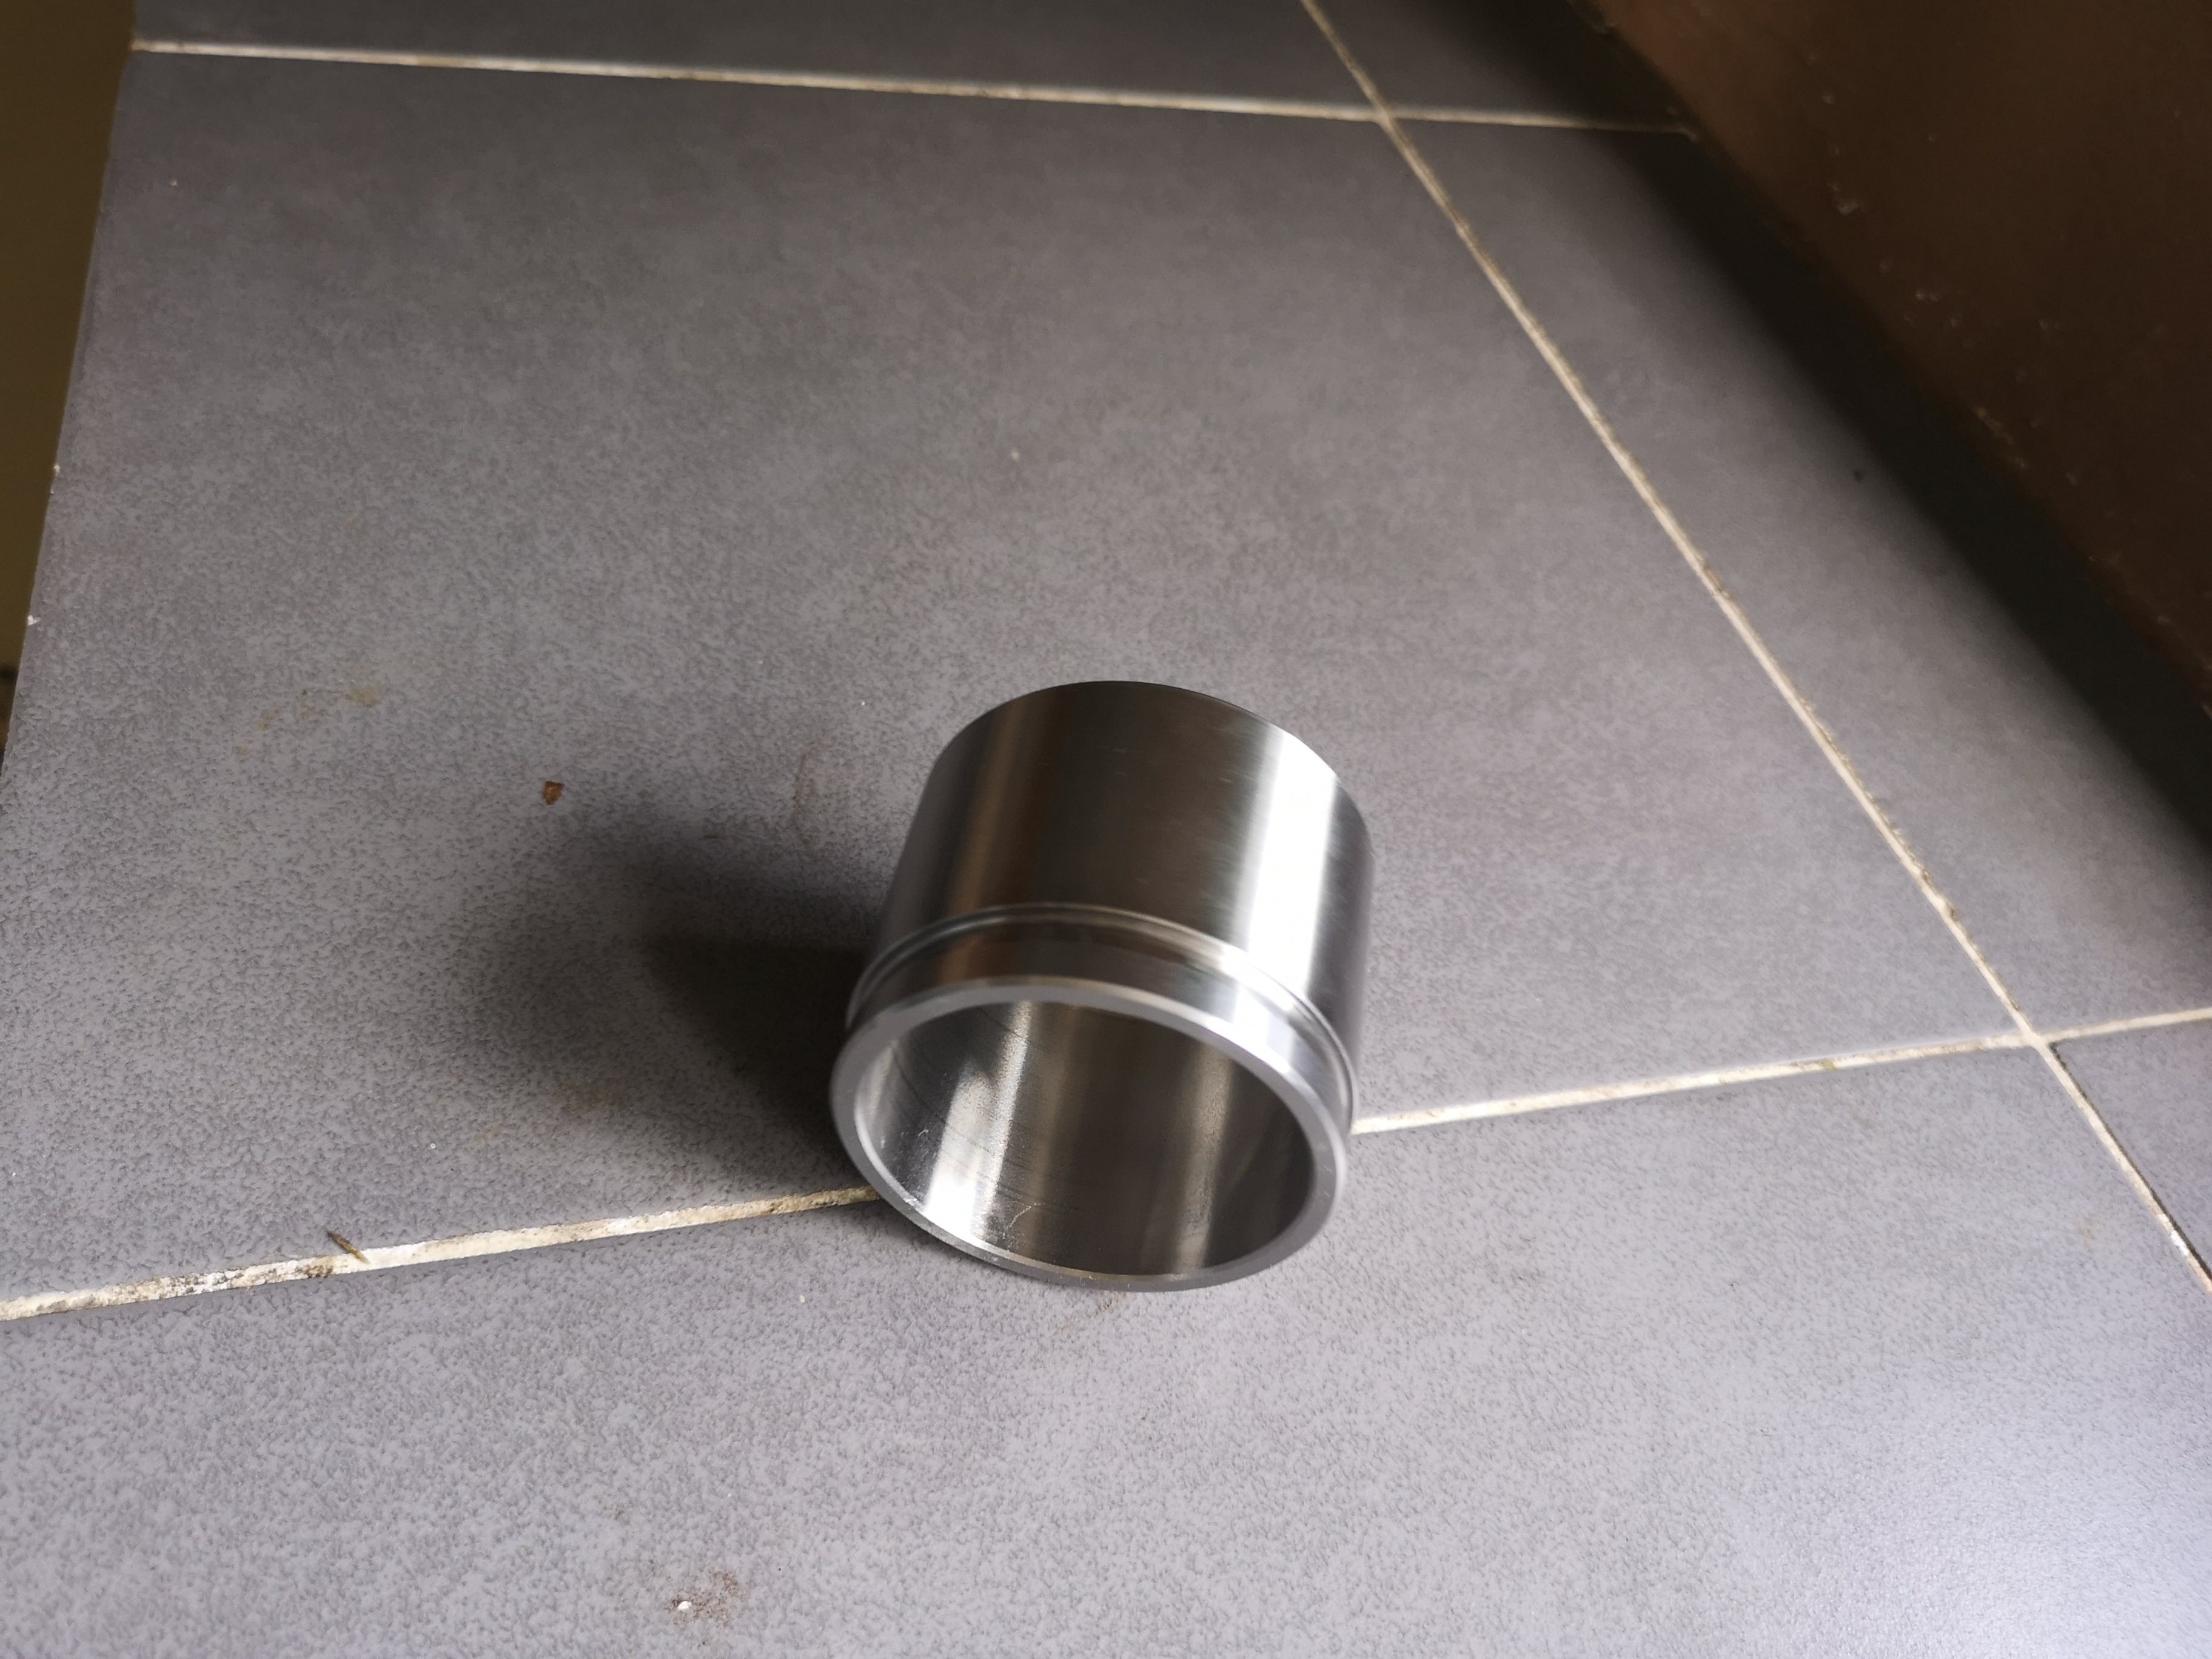ลูกสูบดิสเบรค: (824, 669, 1388, 1326)
